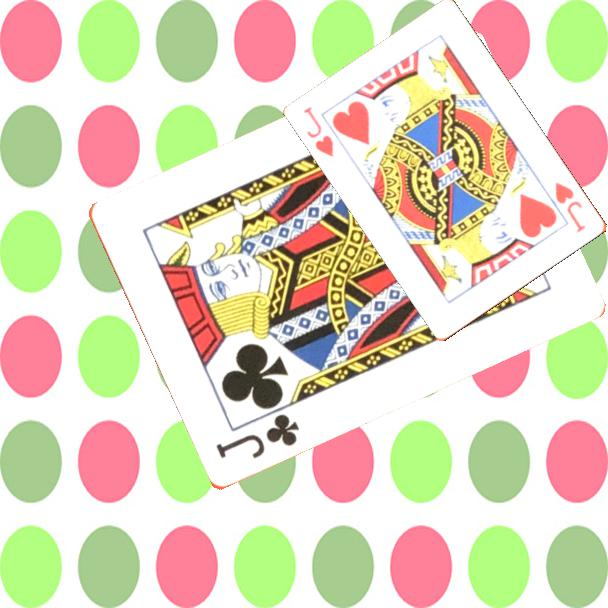c11: (212, 410, 302, 463)
h11: (552, 178, 589, 236), (300, 103, 337, 160)
